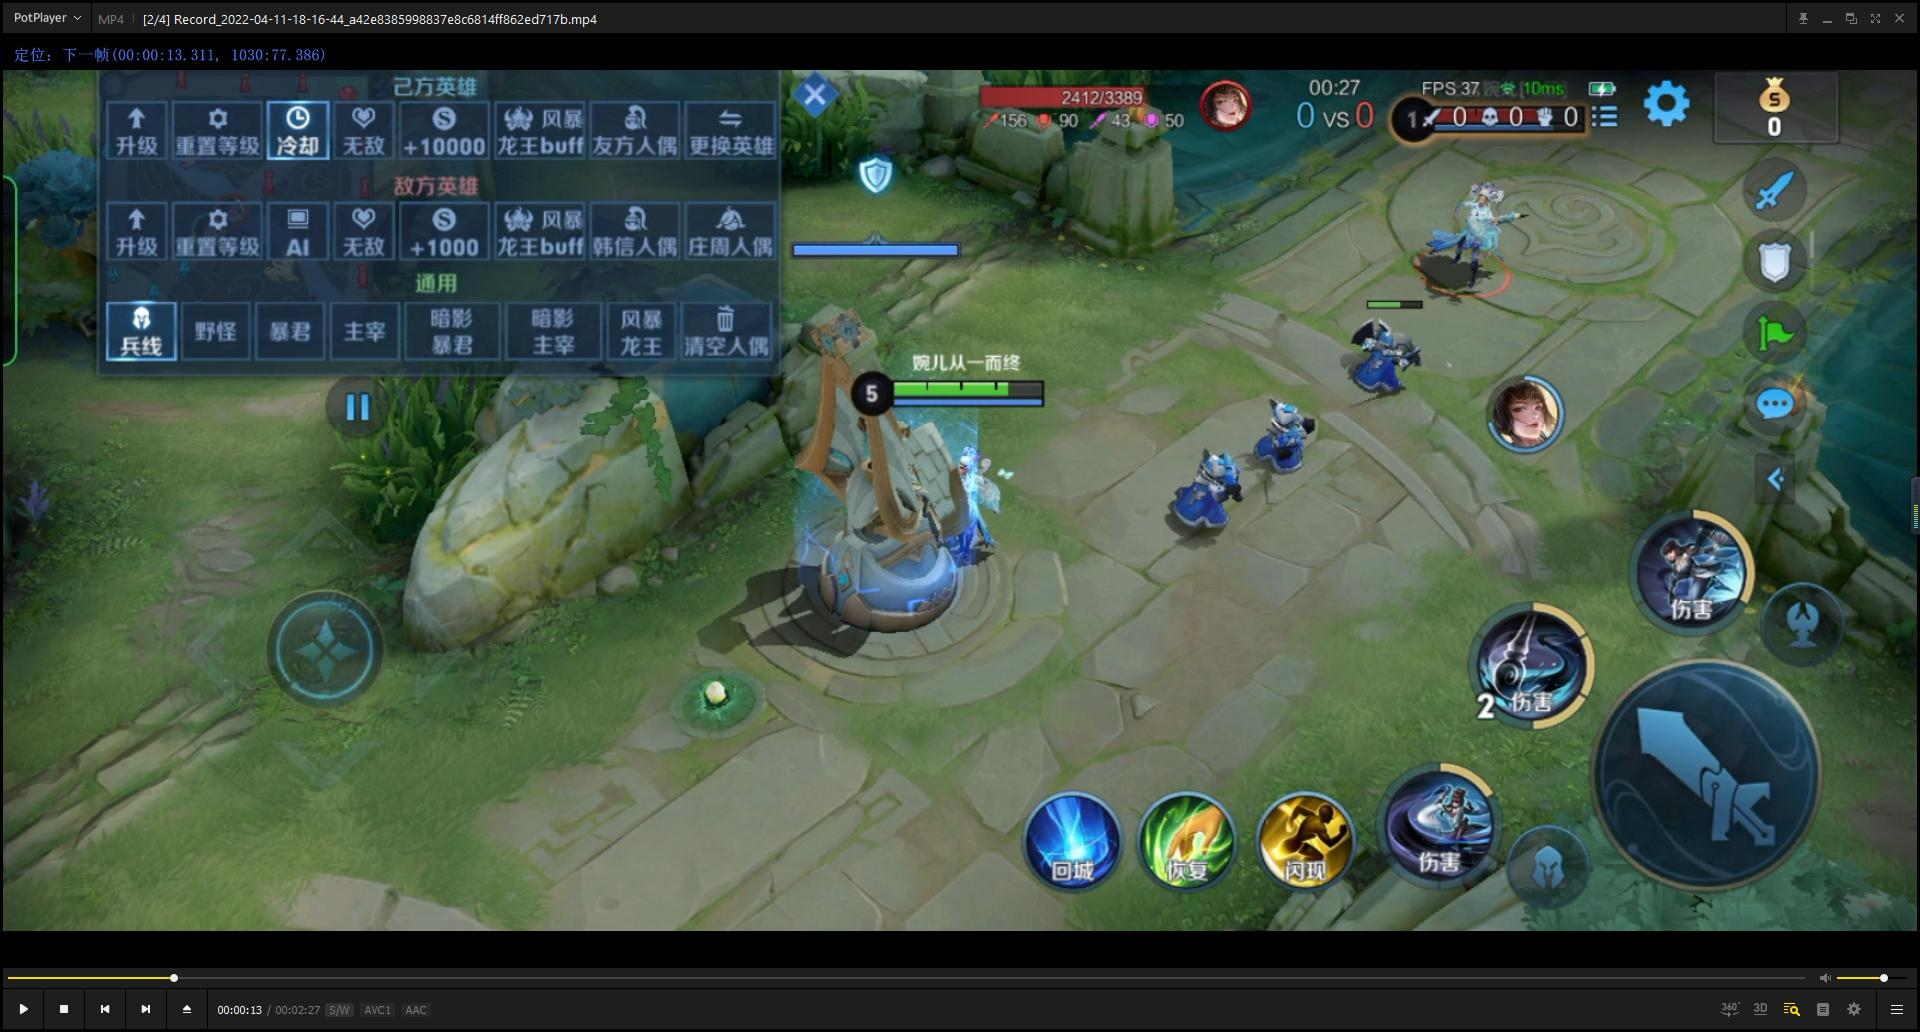Hero: (1417, 158, 1554, 308), (920, 424, 1023, 572)
Solider: (1142, 423, 1269, 555), (1319, 285, 1442, 400), (1238, 384, 1344, 478)
Tower: (781, 219, 978, 655)
